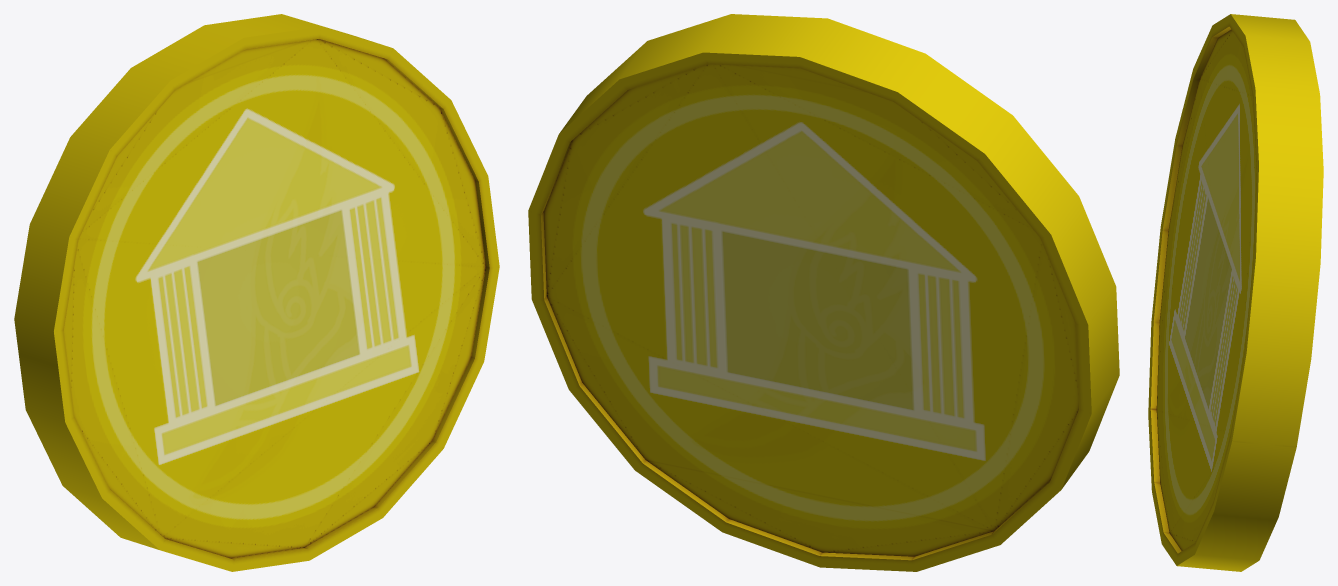
File: ultra.fbx
3 renders of one model, left to right at view 1: azimuth 30°, elevation 25°; view 2: azimuth 150°, elevation 25°; view 3: azimuth 270°, elevation 25°, orthographic. The views are drawn at different scales.
Parts seen in each view (by area): view 1: pCylinder4; view 2: pCylinder4; view 3: pCylinder4.
Boxes of the visible parts, x1,y1,x2,y2 form: pCylinder4: (14,14,499,571); pCylinder4: (528,14,1119,571); pCylinder4: (1148,14,1323,571).
Size of the model in its own units: 7.62 by 7.67 by 2.41.
